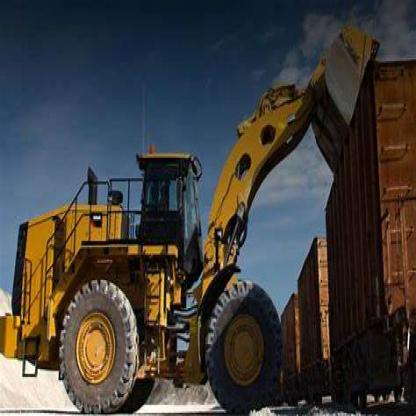bull_dozer/loader/grader: (4, 18, 382, 414)
